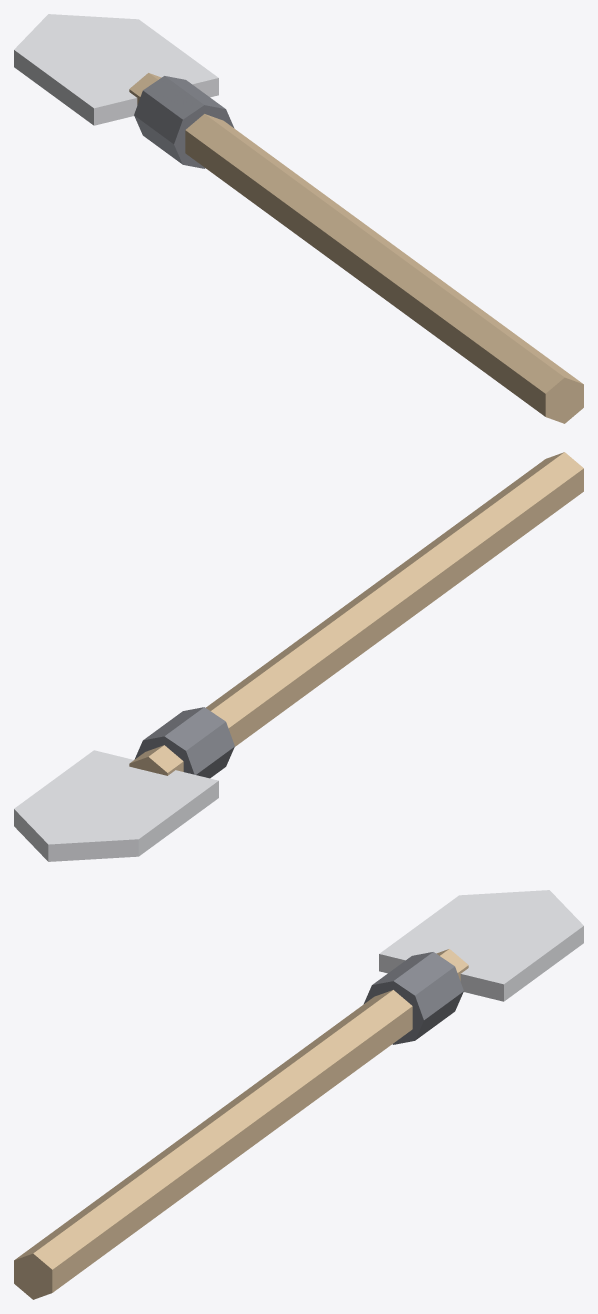
The model's file is iron_shovel_held.gltf.
The picture shows the model from 3 angles, top to bottom: view 1: azimuth 30°, elevation 25°; view 2: azimuth 150°, elevation 25°; view 3: azimuth 330°, elevation 25°; orthographic projection.
Parts seen in each view (by area): view 1: furnace_iron_shovel_held; view 2: furnace_iron_shovel_held; view 3: furnace_iron_shovel_held.
Boxes of the visible parts, <box> form: furnace_iron_shovel_held: <box>14,14,583,423</box>; furnace_iron_shovel_held: <box>14,452,583,861</box>; furnace_iron_shovel_held: <box>14,890,583,1299</box>.
Size of the model in its own units: 0.09 by 0.044 by 0.645.
